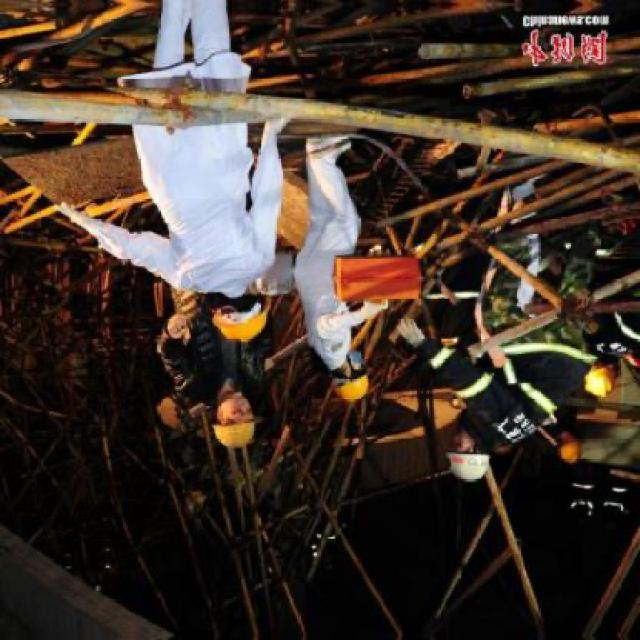con casco: (181, 279, 258, 347), (320, 357, 398, 424), (443, 438, 518, 489), (182, 397, 236, 462)
